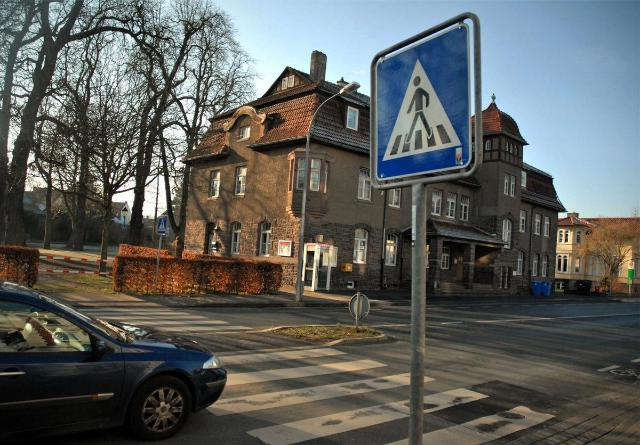crosswalk-sign: (372, 23, 475, 186), (157, 219, 170, 237)
